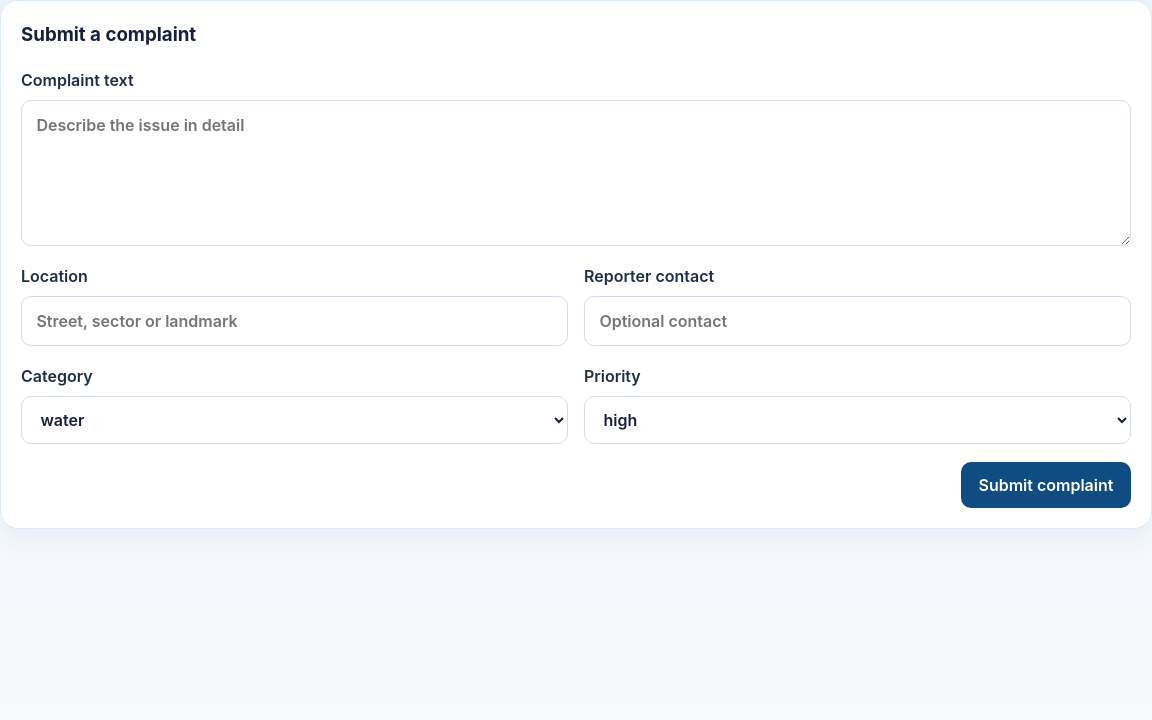
Scenario: SubmitPage › shows a loading state and prevents duplicate submits while pending
Type "Water pipe burst on Main Street and water is spreading across the road." into the text box labelled "Complaint text" at (576, 173), box [21,100,1131,246]
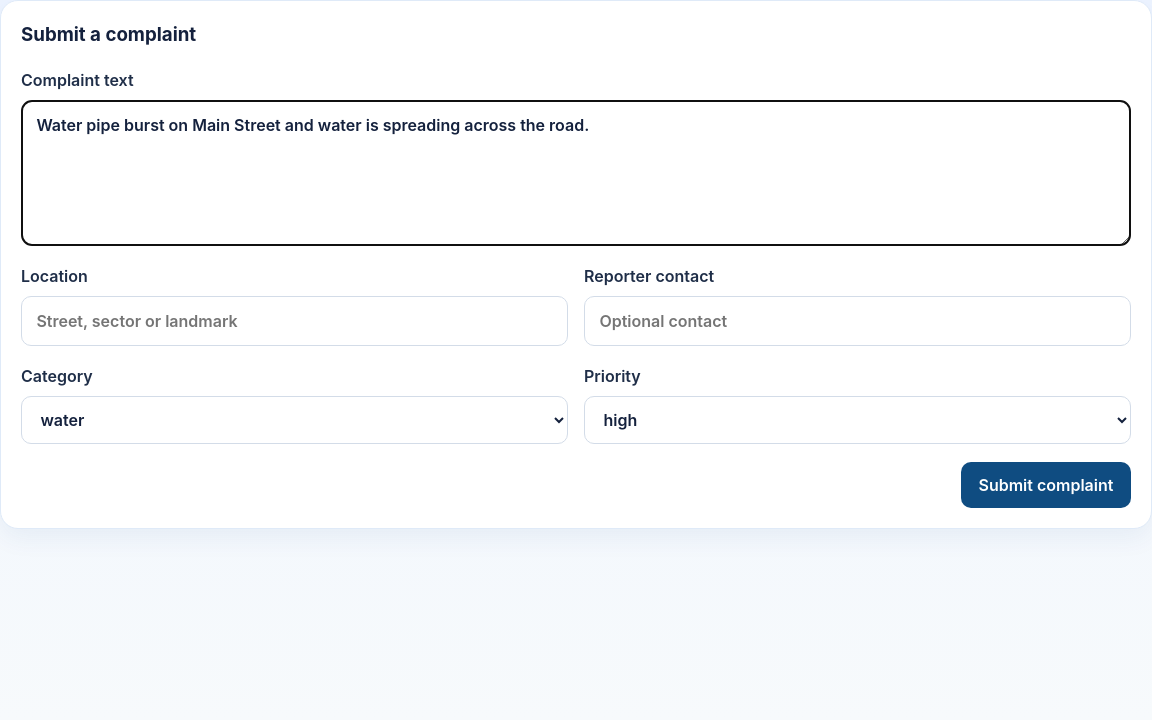
Type "Main Street, Sector 4" into the field labelled "Location" at (294, 321), box [21,296,568,346]
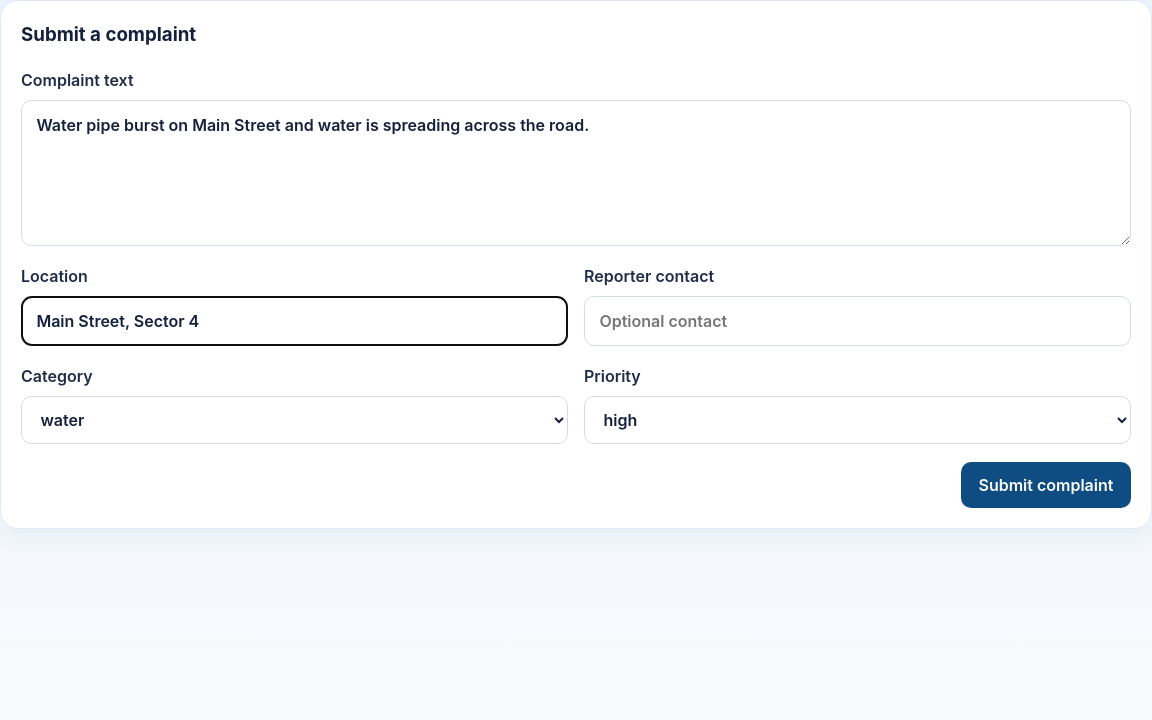
Click the button "Submit complaint" at (1046, 485), box [961,462,1131,508]
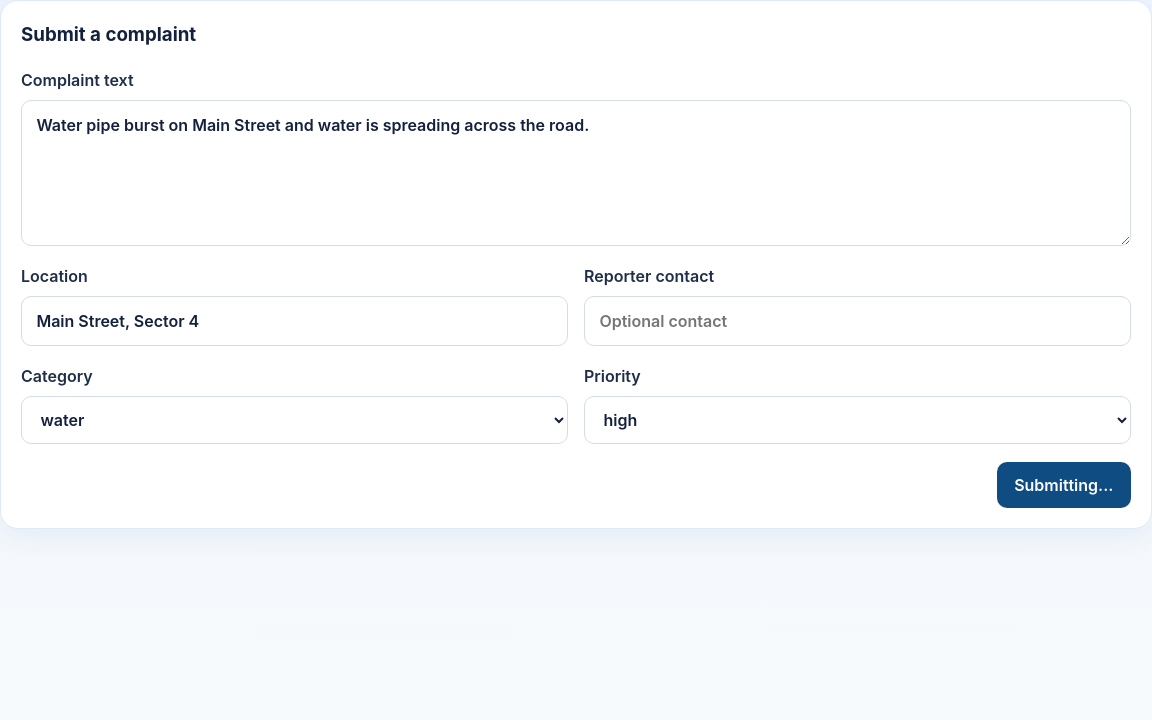
expect the button "Submitting..." is disabled: met
Click the button "Submitting..." at (1064, 485), box [996,462,1131,508]
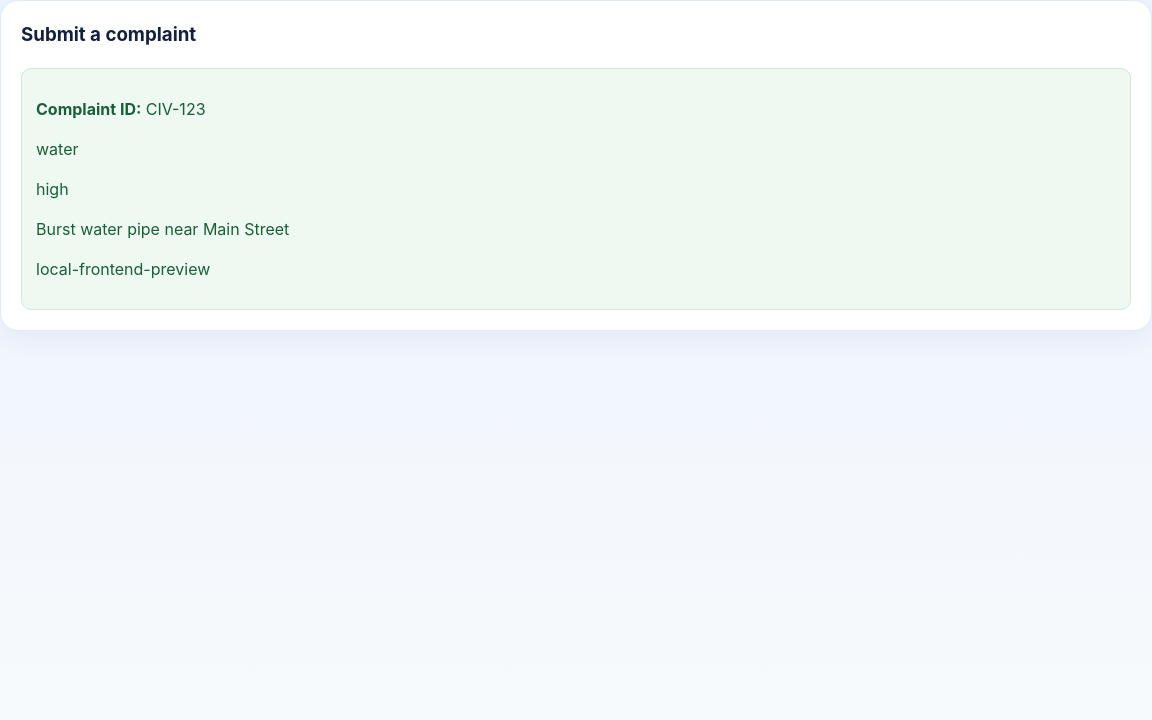
expect the text "Complaint ID:" is shown: met, box [36,99,141,119]
